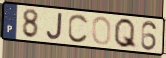6: (140, 20, 158, 52)
8: (21, 8, 40, 39)
C: (67, 13, 90, 45)
J: (45, 11, 64, 41)
O: (91, 16, 113, 47)
Q: (113, 17, 138, 50)
